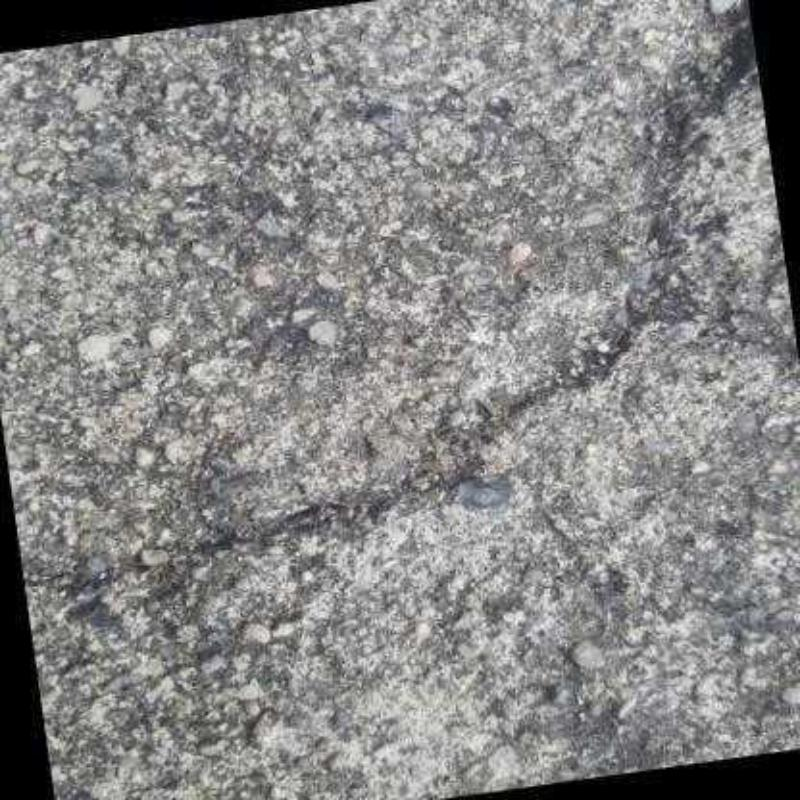pothole: (47, 0, 799, 623)
